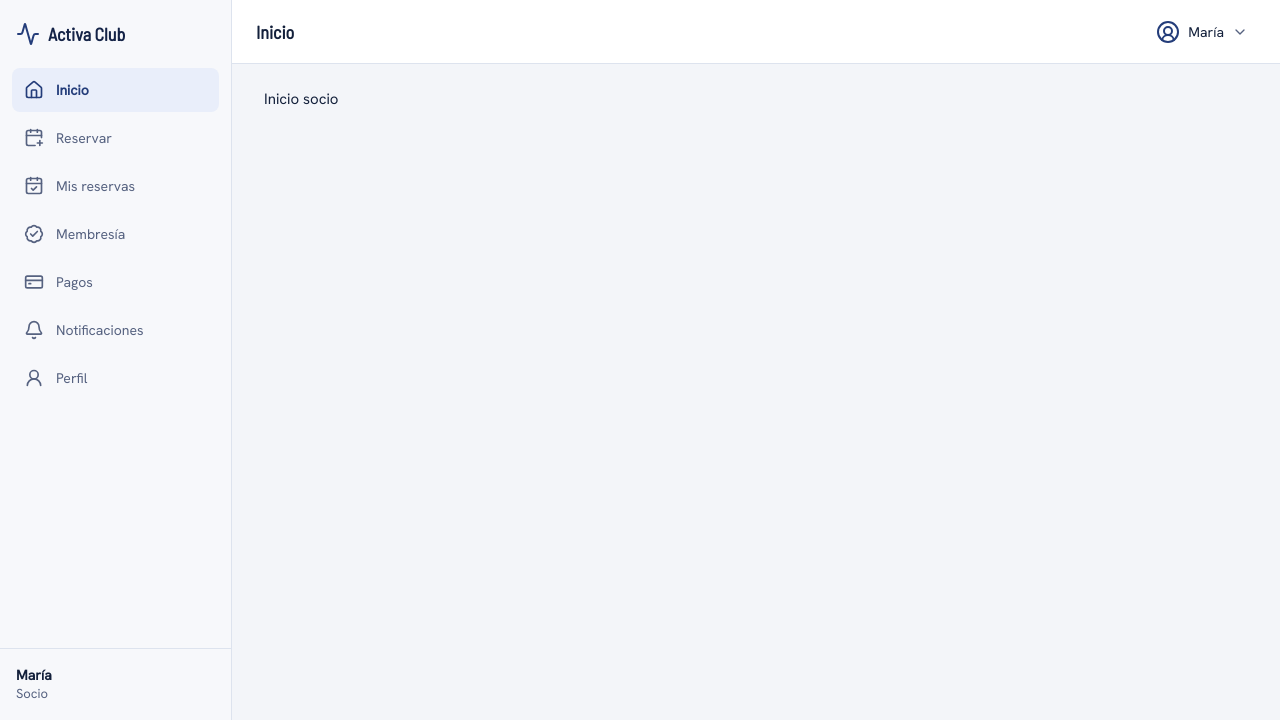
MemberLayout › cierra el menú de usuario con Escape
This screenshot has width=1280, height=720.
Click the button with aria-label "menú de usuario" at (1202, 32), box [1148,10,1256,54]
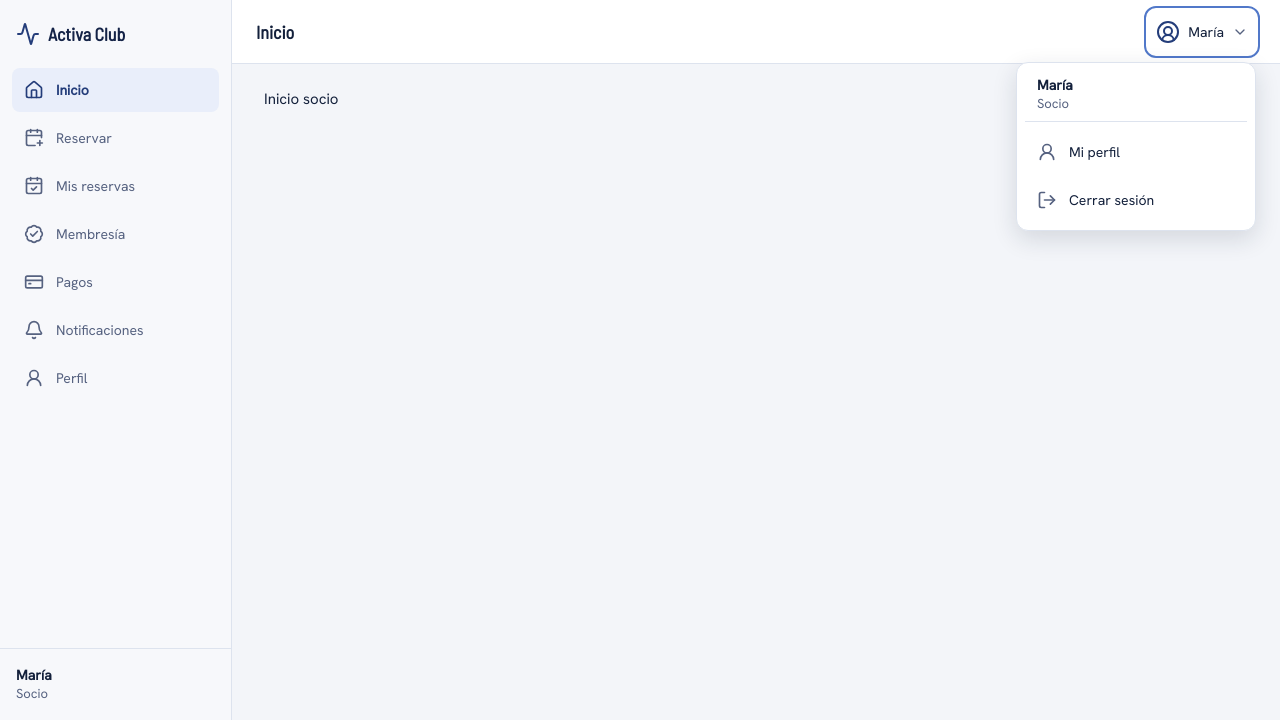
Press Escape
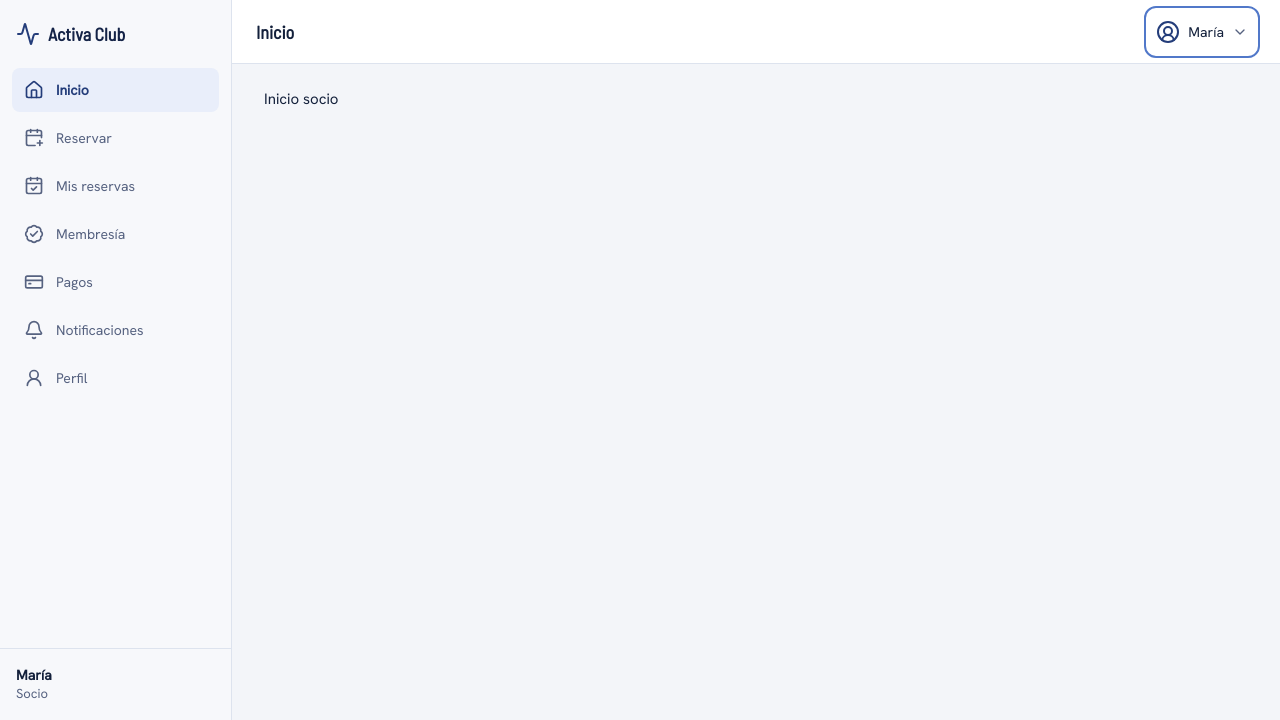
Now the button "Cerrar sesión" is gone
